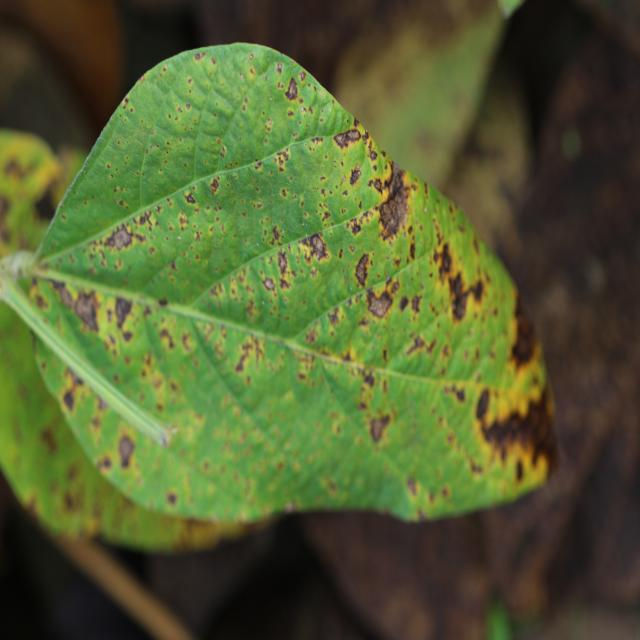Bacterial_Blight: (477, 377, 555, 463), (366, 165, 416, 246), (445, 266, 480, 323), (508, 301, 537, 368), (60, 370, 88, 414), (234, 337, 264, 376), (104, 221, 142, 251), (73, 289, 99, 331), (366, 285, 395, 319), (299, 232, 329, 264), (405, 332, 437, 359), (114, 295, 133, 330), (442, 381, 469, 405), (333, 127, 360, 150), (117, 434, 135, 468), (369, 414, 390, 443), (354, 253, 372, 286), (475, 389, 491, 420), (40, 426, 58, 453), (276, 249, 290, 281), (439, 244, 453, 276), (274, 148, 291, 172), (158, 326, 175, 350), (245, 299, 261, 324), (284, 76, 299, 101), (327, 306, 342, 327), (97, 455, 112, 473), (349, 166, 362, 186), (362, 369, 375, 387), (411, 294, 422, 315), (406, 477, 418, 496), (262, 276, 276, 292), (271, 225, 282, 245), (184, 191, 197, 205), (209, 177, 220, 193), (166, 491, 177, 505), (193, 51, 204, 62), (369, 148, 377, 161), (254, 160, 262, 171), (299, 70, 306, 82)
Soybean: (0, 44, 556, 522)
